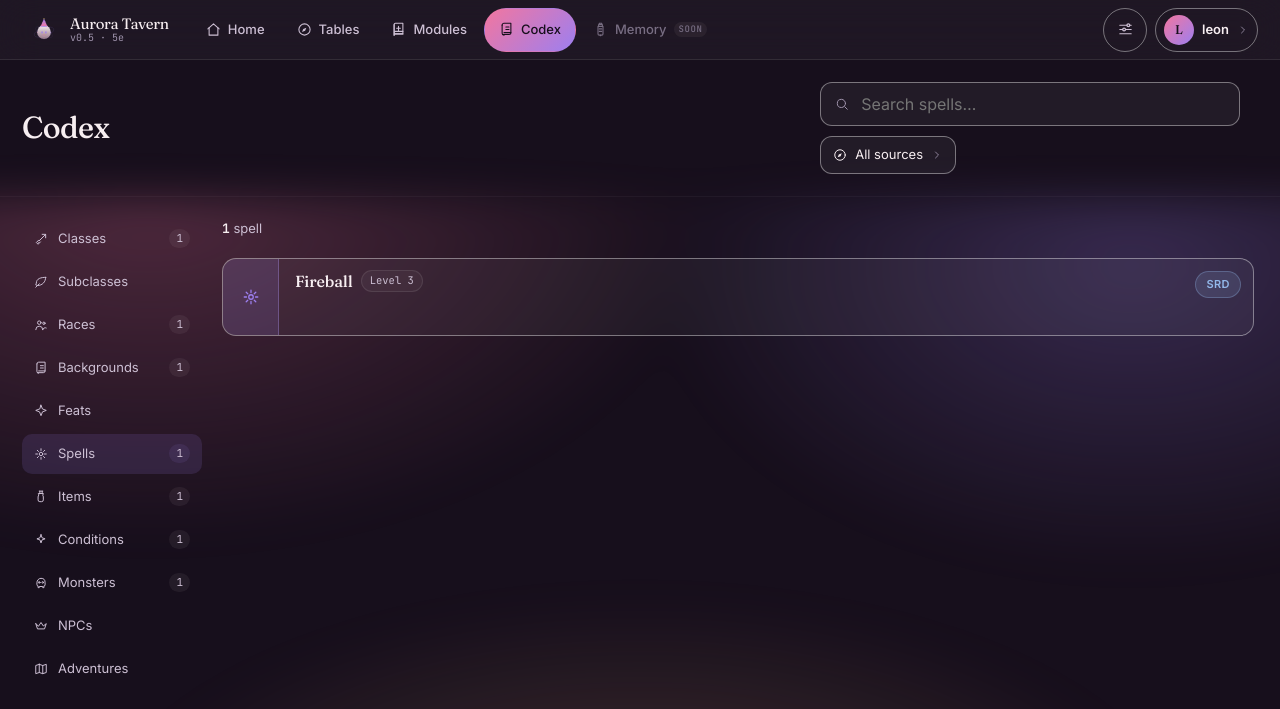
search abuse (UI wiring) › clearing back to an empty query restores the full list (no permanent lockout)
The image size is (1280, 709).
Expected: the option "Fireball Level 3 SRD" is shown, 222,258 -> 1254,336
Type "zzz-no-match" into the search field labelled "Search spells…".
click(1042, 104); type("zzz-no-match")  # box 859,91 -> 1225,117
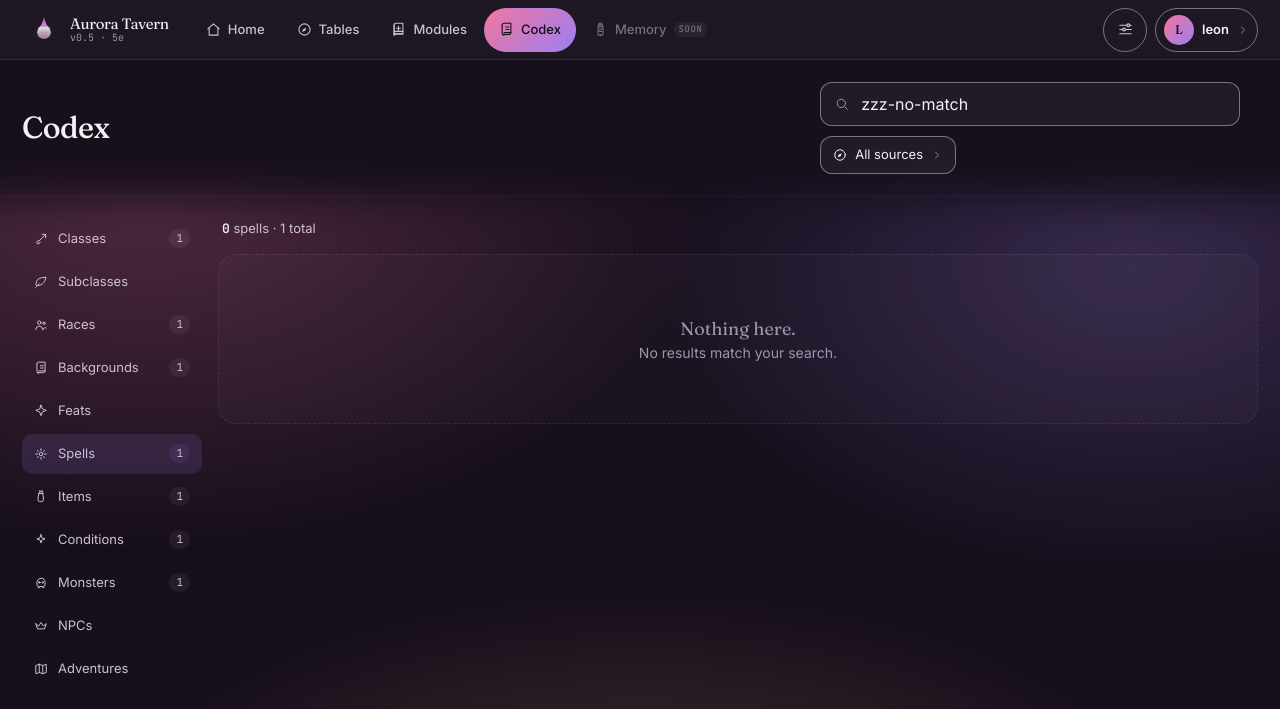
Expected: the text "No results match your search." is shown, 639,344 -> 837,361
Clear the search field named "Search spells" at (1042, 104), box 859,91 -> 1225,117
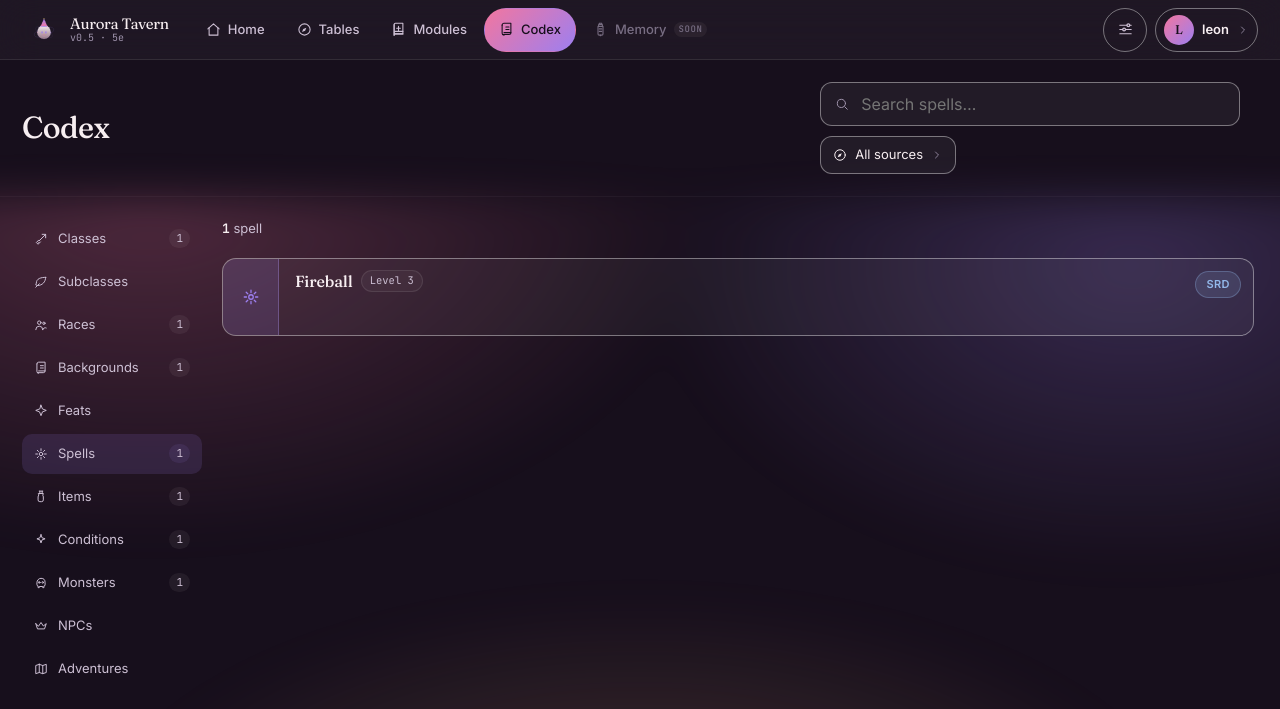
Expected: the option "Fireball Level 3 SRD" is shown, 222,258 -> 1254,336
